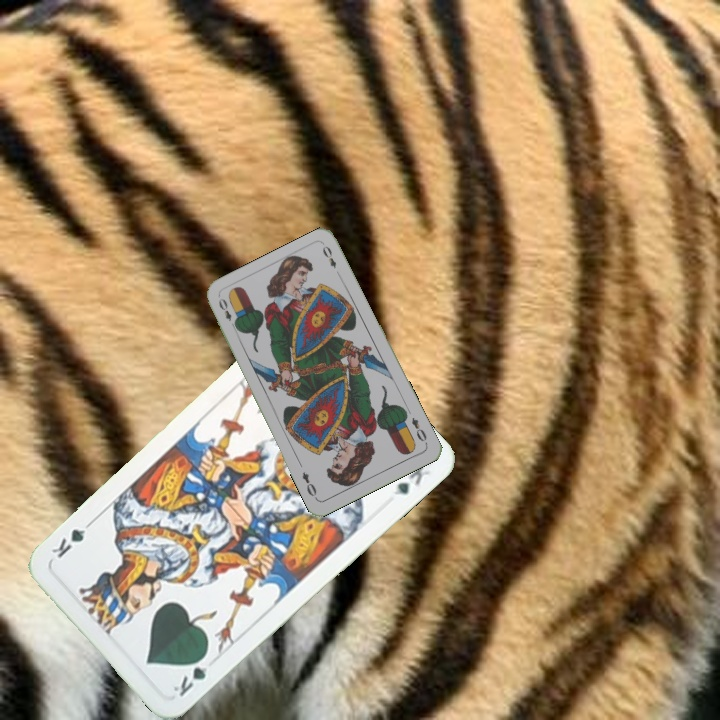EO: (214, 294, 239, 332), (407, 413, 430, 447)
GK: (169, 649, 211, 700)
